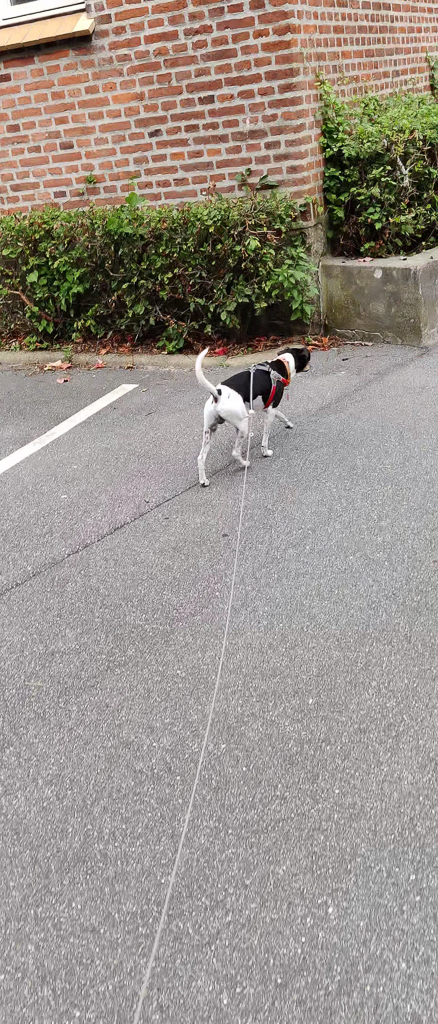Dog: (187, 337, 327, 495)
